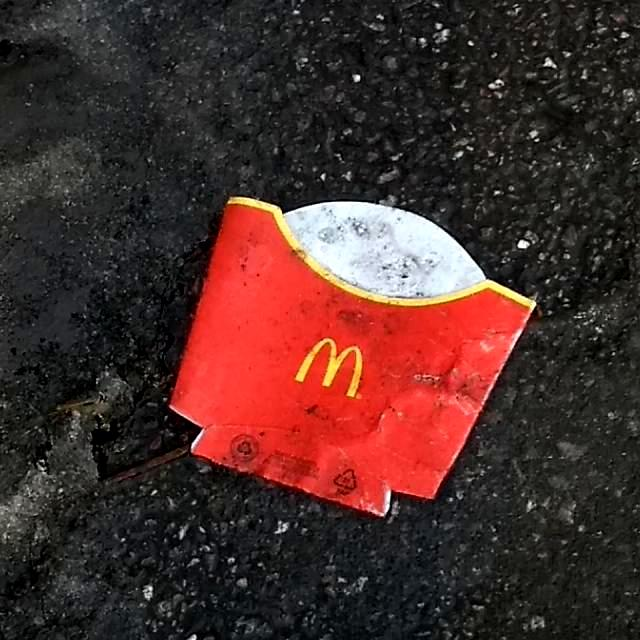Paper: (162, 190, 540, 520)
